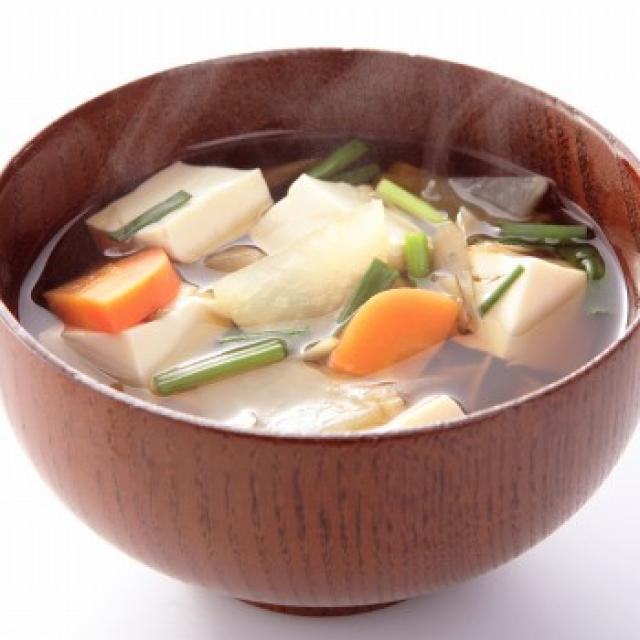蔬菜料理: (0, 29, 640, 620)
